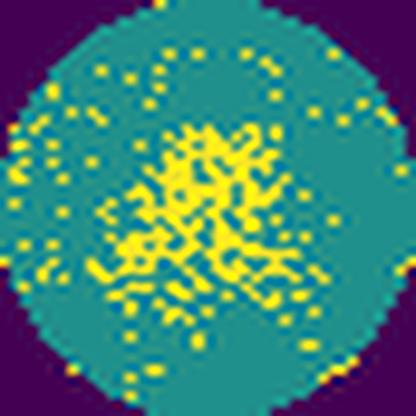Center: (89, 121, 305, 327)
